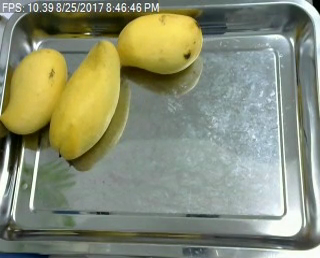Mango: (46, 36, 128, 162), (111, 9, 207, 79), (0, 45, 70, 140)
